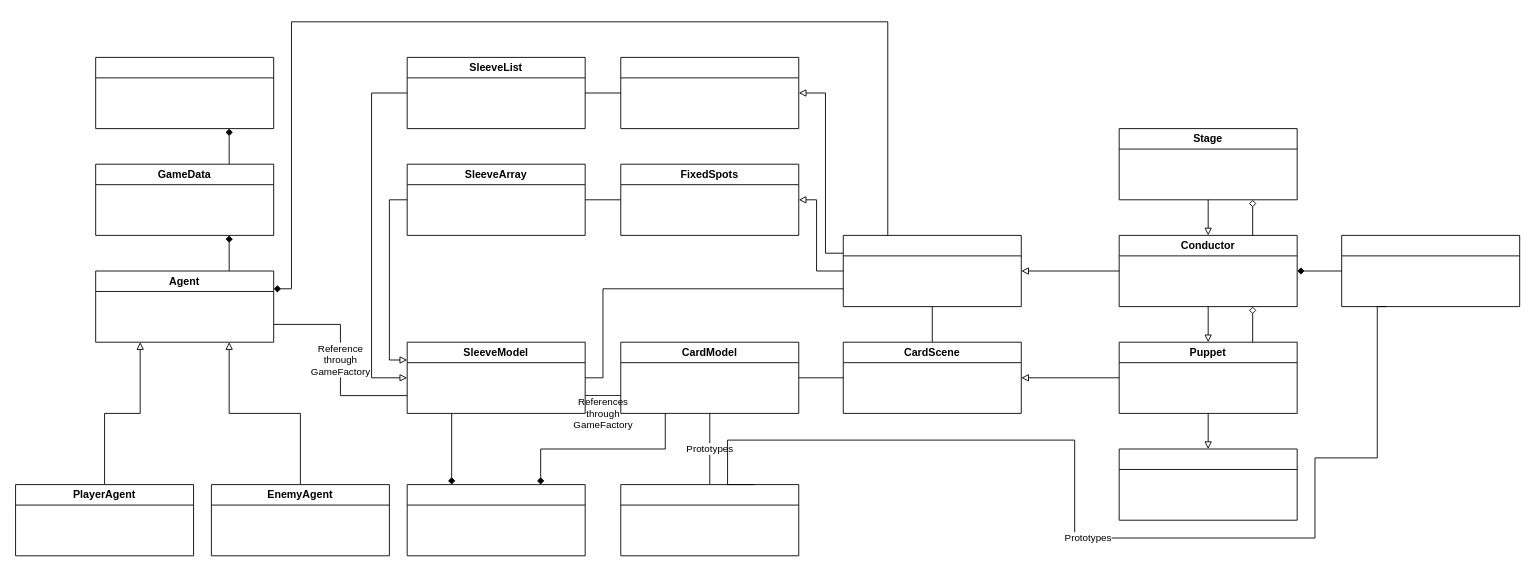
The diagram is 1535 pixels wide and 571 high, and some of its shapes have lost their labels. Each missing label, with the centre of its shape:
"Game" belongs at pixel 184 93.
"GameConstants" belongs at pixel 709 520.
"GameFactory" belongs at pixel 495 520.
"Hand" belongs at pixel 709 93.
"Node (Godot default)" belongs at pixel 1207 484.
"SleeveScene" belongs at pixel 931 271.
"Spine" belongs at pixel 1430 271.
